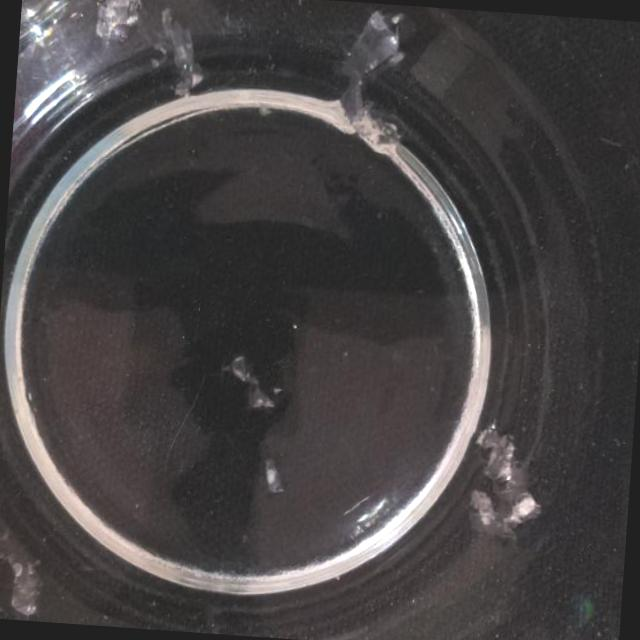fiber: (334, 1, 424, 154), (452, 412, 552, 542), (152, 0, 226, 120), (213, 333, 290, 426), (0, 550, 55, 621), (90, 0, 160, 55), (260, 456, 292, 498)
